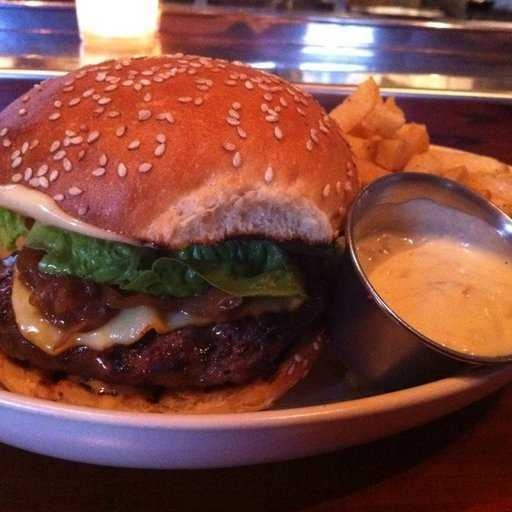hamburger: (4, 46, 356, 381)
